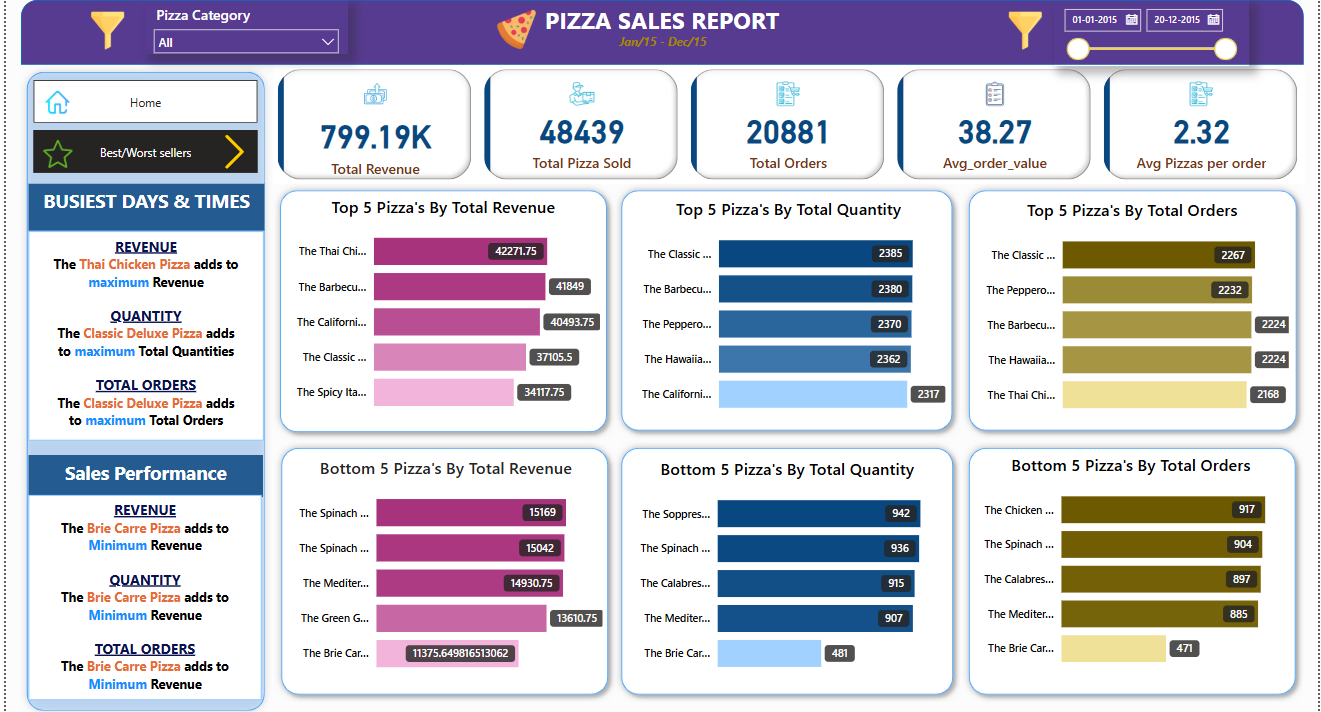

The dashboard page shown, as its layout file describes it:
{"tool":"powerbi","page":{"name":"Best/Worst  sellers","canvas":[1500,820],"ordinal":1},"visuals":[{"type":"shape","box":[15,74,288,746],"z":0},{"type":"cardVisual","fields":{"Data":["pizza_sales.Total Revenue","pizza_sales.Total Pizza Sold","pizza_sales.Total Orders","pizza_sales.Avg_order_value","pizza_sales.Avg Pizzas per order"]},"box":[306,74,1178,136],"z":1000},{"type":"shape","box":[17,0,1466,74],"z":2000},{"type":"textbox","box":[594.3,0,311.4,55.7],"z":3000},{"type":"textbox","box":[671.7,32.5,158.3,33.3],"z":4000},{"type":"image","box":[551,5,64,56],"z":5000},{"type":"shape","box":[304.3,208.6,391.4,294.3],"z":6000},{"type":"group","id":"g1","title":"Group 1","box":[25,210,268.3,291.7],"z":7000},{"type":"shape","box":[695,208.8,396.2,292.5],"z":8000},{"type":"shape","box":[1091.2,208.8,392.5,292.5],"z":9000},{"type":"shape","box":[305.7,502.9,391.4,300],"z":10000},{"type":"shape","box":[694.3,502.9,397.1,300],"z":11000},{"type":"shape","box":[1091.4,502.9,391.4,300],"z":12000},{"type":"barChart","title":"Top 5 Pizza''s By Total Revenue","fields":{"Y":["pizza_sales.Total Revenue"],"Category":["pizza_sales.pizza_name"]},"box":[315,223.3,368.3,263.3],"z":13000},{"type":"barChart","title":"Bottom 5 Pizza''s By Total Revenue","fields":{"Y":["pizza_sales.Total Revenue"],"Category":["pizza_sales.pizza_name"]},"box":[318.3,521.7,368.3,263.3],"z":14000},{"type":"textbox","box":[25.6,520,267.8,47.8],"z":15000},{"type":"textbox","box":[25.6,565.6,266.7,234.4],"z":16000},{"type":"barChart","title":"Top 5 Pizza''s By Total Quantity","fields":{"Category":["pizza_sales.pizza_name"],"Y":["pizza_sales.Total Pizza Sold"]},"box":[710,225,368.8,262.5],"z":17000},{"type":"textbox","box":[25,210,269.5,53.8],"z":17500,"group":"g1"},{"type":"textbox","box":[25.6,263.8,269,238.9],"z":18000,"group":"g1"},{"type":"barChart","title":"Bottom 5 Pizza''s By Total Quantity","fields":{"Category":["pizza_sales.pizza_name"],"Y":["pizza_sales.Total Pizza Sold"]},"box":[708.6,522.9,368.6,261.4],"z":18000},{"type":"barChart","title":"Top 5 Pizza''s By Total Orders","fields":{"Category":["pizza_sales.pizza_name"],"Y":["pizza_sales.Total Orders"]},"box":[1102.9,227.1,368.6,261.4],"z":19000},{"type":"barChart","title":"Bottom 5 Pizza''s By Total Orders","fields":{"Category":["pizza_sales.pizza_name"],"Y":["pizza_sales.Total Orders"]},"box":[1101.7,518.3,368.3,260],"z":20000},{"type":"pageNavigator","box":[30.9,91.8,256.4,50],"z":21000},{"type":"pageNavigator","box":[31.8,148.2,256.4,50],"z":22000},{"type":"image","box":[230,148.6,62.9,50],"z":23000},{"type":"image","box":[35.7,98.6,46.4,37.1],"z":24000},{"type":"image","box":[32.9,153.6,52.1,43.6],"z":25000},{"type":"slicer","fields":{"Values":["pizza_sales.pizza_category"]},"box":[158.3,0,231.7,61.7],"z":26000},{"type":"slicer","fields":{"Values":["pizza_sales.order_date"]},"box":[1196.7,0,223.3,75],"z":27000},{"type":"image","box":[1133.3,8.3,63.3,53.3],"z":28000},{"type":"image","box":[85,8.3,63.3,53.3],"z":29000}]}

Visuals, with their boxes in screenshot pixels (x1, y1, x2, y2), scaled from the page's 1500x820 canvas onto the 1321x712 screenshot:
shape: 13 64 267 711
cardVisual - pizza_sales.Total Revenue x pizza_sales.Total Pizza Sold: 269 64 1307 182
shape: 15 0 1306 64
textbox: 523 0 798 48
textbox: 592 28 731 57
image: 485 4 542 53
shape: 268 181 613 437
"Group 1" group: 22 182 258 436
shape: 612 181 961 435
shape: 961 181 1307 435
shape: 269 437 614 697
shape: 611 437 961 697
shape: 961 437 1306 697
"Top 5 Pizza''s By Total Revenue" barChart: 277 194 602 423
"Bottom 5 Pizza''s By Total Revenue" barChart: 280 453 605 682
textbox: 23 452 258 493
textbox: 23 491 257 695
"Top 5 Pizza''s By Total Quantity" barChart: 625 195 950 423
textbox: 22 182 259 229
textbox: 23 229 259 436
"Bottom 5 Pizza''s By Total Quantity" barChart: 624 454 949 681
"Top 5 Pizza''s By Total Orders" barChart: 971 197 1296 424
"Bottom 5 Pizza''s By Total Orders" barChart: 970 450 1295 676
pageNavigator: 27 80 253 123
pageNavigator: 28 129 254 172
image: 203 129 258 172
image: 31 86 72 118
image: 29 133 75 171
slicer - pizza_sales.pizza_category: 139 0 343 54
slicer - pizza_sales.order_date: 1054 0 1251 65
image: 998 7 1054 53
image: 75 7 131 53
